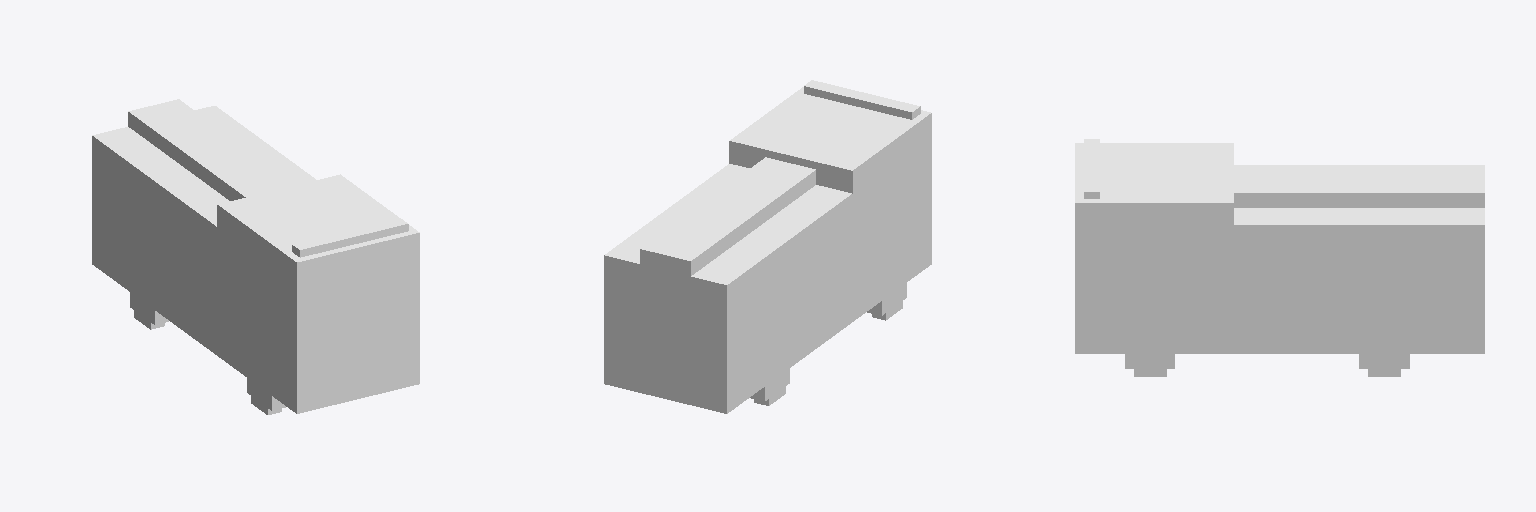
The model's file is fireengine.obj.
3 renders of one model, left to right at view 1: azimuth 30°, elevation 25°; view 2: azimuth 150°, elevation 25°; view 3: azimuth 270°, elevation 25°, orthographic.
Parts seen in each view (by area): view 1: fireengine; view 2: fireengine; view 3: fireengine.
Boxes of the visible parts, box(x1,y1,x2,y2) form: fireengine: box(92, 99, 419, 414); fireengine: box(604, 80, 931, 413); fireengine: box(1075, 139, 1484, 376).
Size of the model in its own units: 17 by 24 by 49.